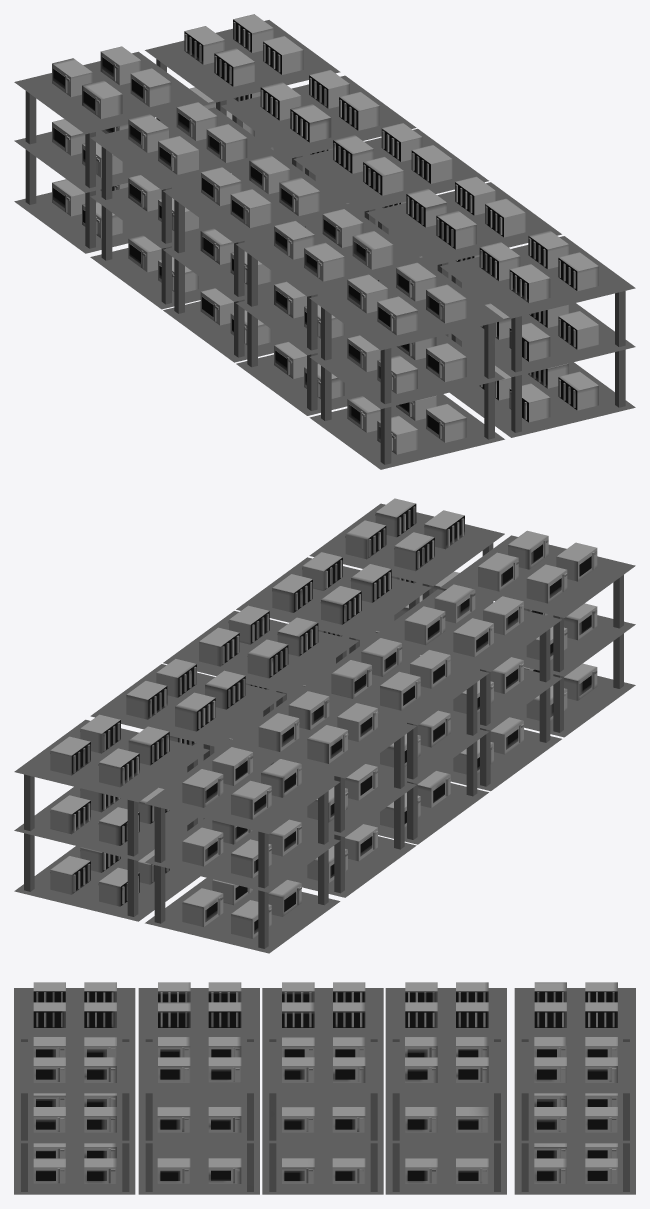
The model's file is EstanteTecnologia2x5.obj.
3 views of the same model, one above another, from view 1: azimuth 30°, elevation 25°; view 2: azimuth 150°, elevation 25°; view 3: azimuth 270°, elevation 25° (orthographic). The views are drawn at different scales.
Parts seen in each view (by area): view 1: EstanteTecnologia5x2; view 2: EstanteTecnologia5x2; view 3: EstanteTecnologia5x2.
Part boxes in pixels (bbox=[...]): EstanteTecnologia5x2: bbox=[14, 14, 635, 469]; EstanteTecnologia5x2: bbox=[14, 498, 635, 953]; EstanteTecnologia5x2: bbox=[14, 982, 635, 1194].
Bounding box in the file's own units: 4.1 × 2.14 × 10.2.
1 material, 1 textured.
